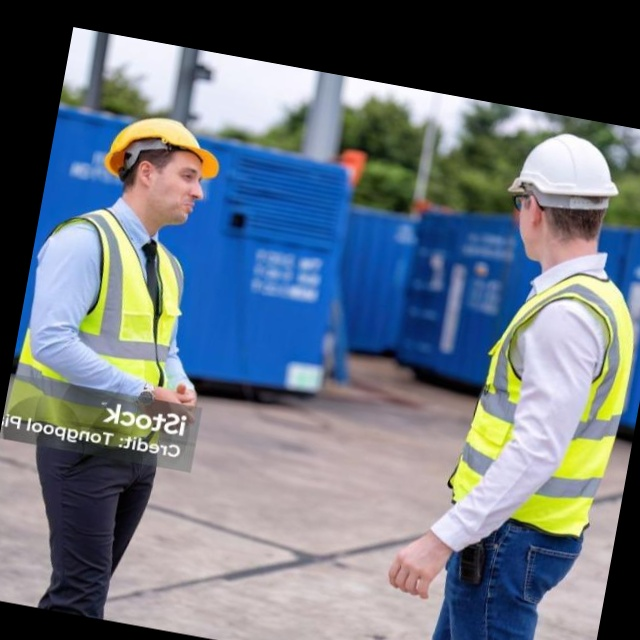Con_Casco: (495, 125, 624, 272)
Con_Chaleco: (448, 256, 640, 540)
